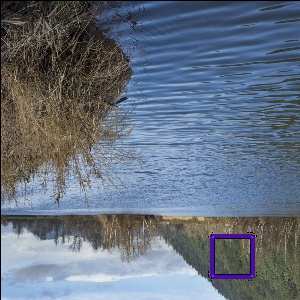square: (206, 229, 258, 282)
